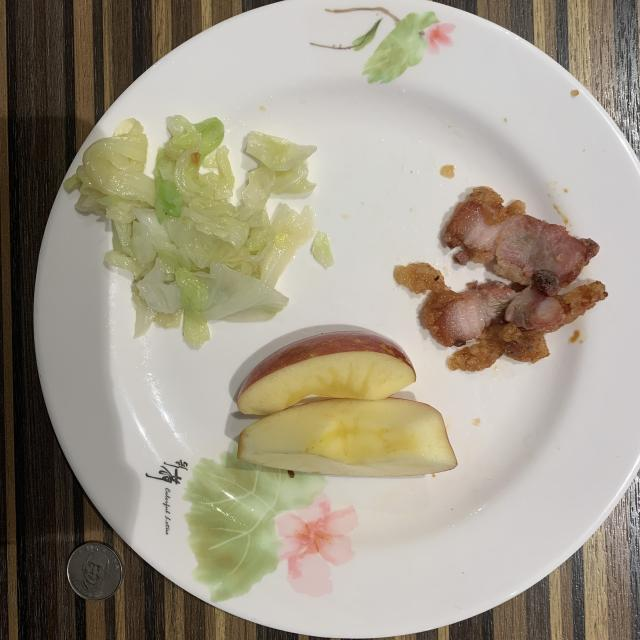apple -sliced-: (238, 331, 456, 476)
cabbage: (64, 115, 315, 348)
coin: (68, 542, 122, 600)
red grilled pork: (395, 186, 608, 371)
